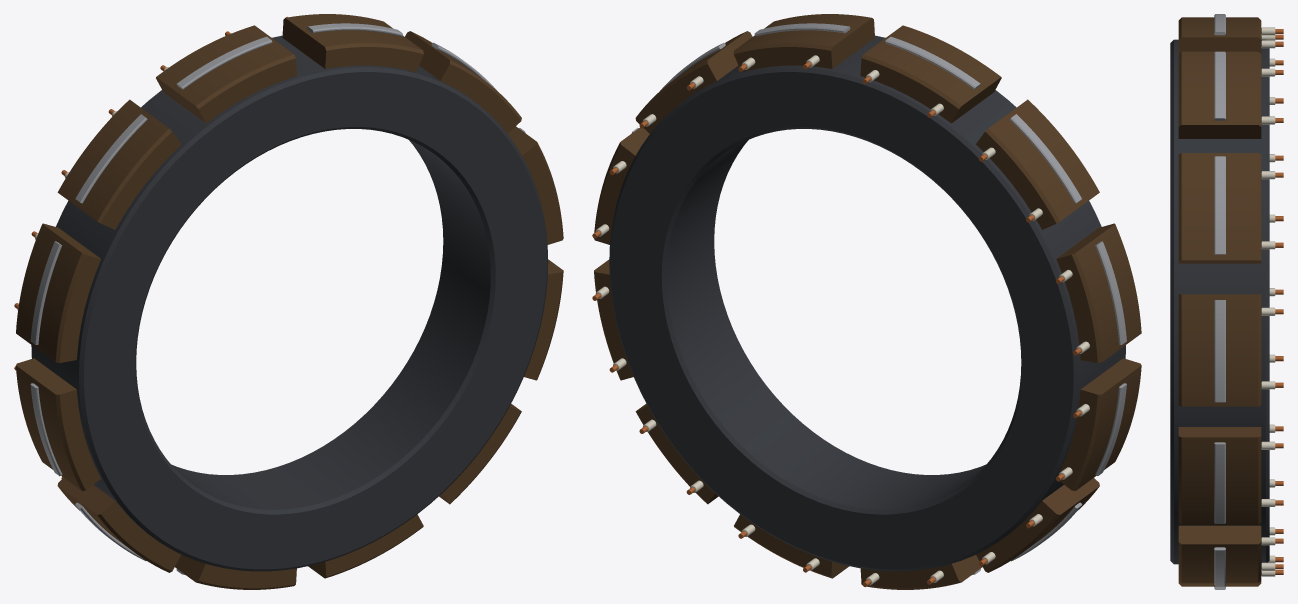
The model's file is cr1_coil_ring.obj.
3 renders of one model, left to right at view 1: azimuth 30°, elevation 25°; view 2: azimuth 150°, elevation 25°; view 3: azimuth 270°, elevation 25°, orthographic. The views are drawn at different scales.
Visible parts, largest first — view 1: cr1_coil_ring; view 2: cr1_coil_ring; view 3: cr1_coil_ring.
Part boxes in pixels (<box>): cr1_coil_ring: <box>14,14,563,589</box>; cr1_coil_ring: <box>592,14,1141,589</box>; cr1_coil_ring: <box>1170,14,1283,589</box>.
Bounding box in the file's own units: 4.92 × 4.92 × 0.97.
